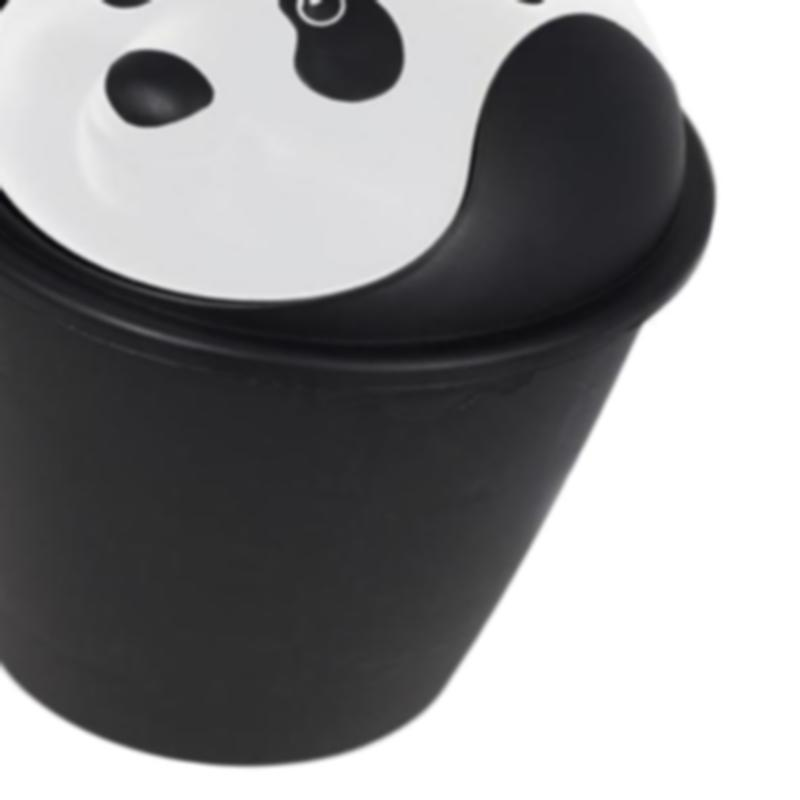Bote de Basura: (0, 0, 700, 764)
